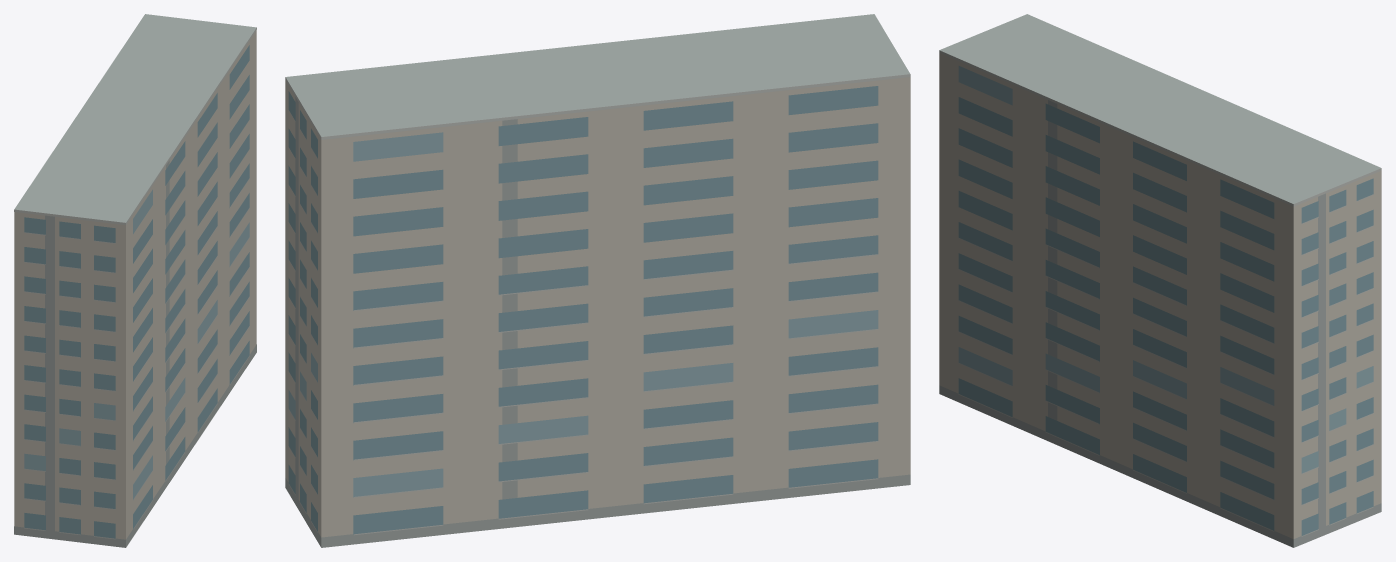
Rendered from residential-a4a03652-c503-4775-9c07-fdfad9c56479.glb.
3 renders of one model, left to right at view 1: azimuth 30°, elevation 25°; view 2: azimuth 150°, elevation 25°; view 3: azimuth 270°, elevation 25°, orthographic. The views are drawn at different scales.
Visible parts, largest first — view 1: residential-a4a03652-c503-4775-9c07-fdfad9c56479.tmp; view 2: residential-a4a03652-c503-4775-9c07-fdfad9c56479.tmp; view 3: residential-a4a03652-c503-4775-9c07-fdfad9c56479.tmp.
Part boxes in pixels (bbox=[...]): residential-a4a03652-c503-4775-9c07-fdfad9c56479.tmp: bbox=[14, 14, 256, 547]; residential-a4a03652-c503-4775-9c07-fdfad9c56479.tmp: bbox=[285, 14, 910, 547]; residential-a4a03652-c503-4775-9c07-fdfad9c56479.tmp: bbox=[939, 14, 1381, 547].
Bounding box in the file's own units: 40.36 × 34 × 39.67.
